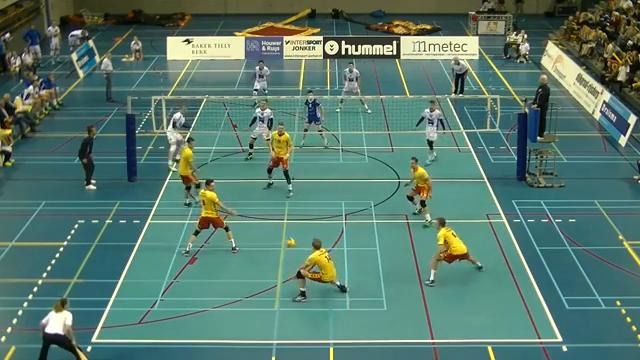difesa: (285, 234, 351, 303)
